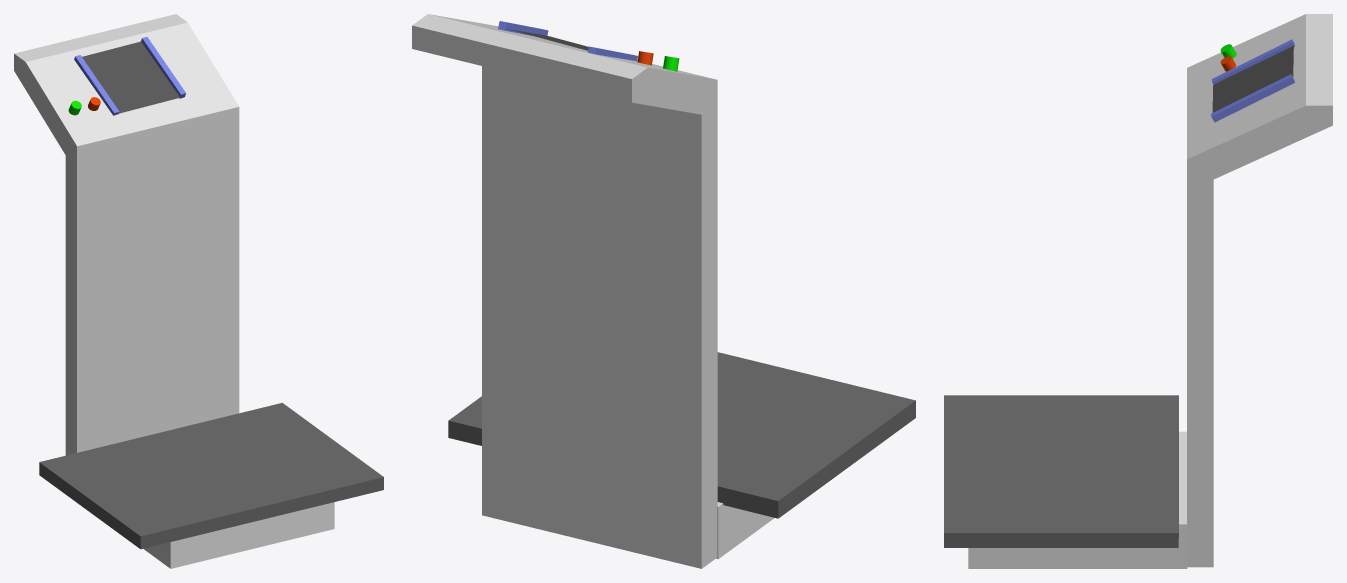
File: romana.fbx
The picture shows the model from 3 angles, left to right: view 1: azimuth 30°, elevation 25°; view 2: azimuth 150°, elevation 25°; view 3: azimuth 270°, elevation 25°; orthographic projection. The views are drawn at different scales.
Visible parts, largest first — view 1: Cubo, Plano.001, Plano, Plano.002, Cubo.001; view 2: Cubo, Plano.001, Plano; view 3: Plano.001, Cubo, Plano, Plano.002, Cubo.001, Cubo.002.
Boxes of the visible parts, x1,y1,x2,y2 form: Cubo: (14, 14, 239, 455); Plano.001: (39, 403, 383, 549); Plano: (143, 502, 334, 568); Plano.002: (82, 41, 180, 113); Cubo.001: (141, 37, 186, 98); Cubo: (412, 14, 717, 568); Plano.001: (448, 352, 915, 518); Plano: (716, 502, 774, 559); Plano.001: (944, 395, 1178, 547); Cubo: (1187, 14, 1332, 567); Plano: (968, 431, 1187, 568); Plano.002: (1212, 46, 1293, 112); Cubo.001: (1211, 74, 1294, 122); Cubo.002: (1212, 39, 1294, 84).
Bounding box in the file's own units: 67.42 × 106 × 80.54.
